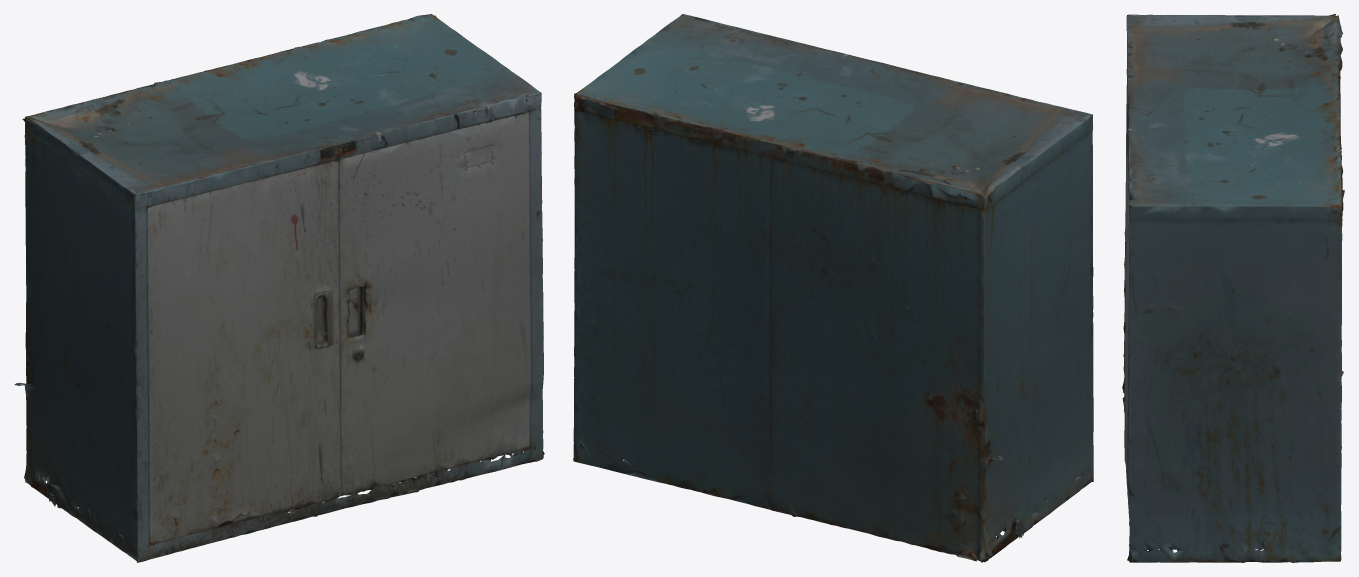
File: PX_Old_Tin_Cabinet_01_LOD0.fbx
3 renders of one model, left to right at view 1: azimuth 30°, elevation 25°; view 2: azimuth 150°, elevation 25°; view 3: azimuth 270°, elevation 25°, orthographic. The views are drawn at different scales.
Visible parts, largest first — view 1: PX_Old_Tin_Cabinet_01_LOD0; view 2: PX_Old_Tin_Cabinet_01_LOD0; view 3: PX_Old_Tin_Cabinet_01_LOD0.
Boxes of the visible parts, box(x1,y1,x2,y2) form: PX_Old_Tin_Cabinet_01_LOD0: box(14, 14, 544, 562); PX_Old_Tin_Cabinet_01_LOD0: box(573, 14, 1093, 562); PX_Old_Tin_Cabinet_01_LOD0: box(1122, 14, 1344, 562).
Bounding box in the file's own units: 80.25 × 66.66 × 37.25.
